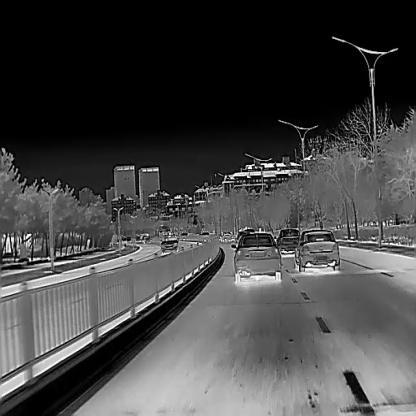car: (231, 231, 281, 282), (293, 228, 339, 272), (275, 228, 301, 254), (160, 233, 180, 253), (234, 228, 255, 244), (220, 233, 231, 242)
